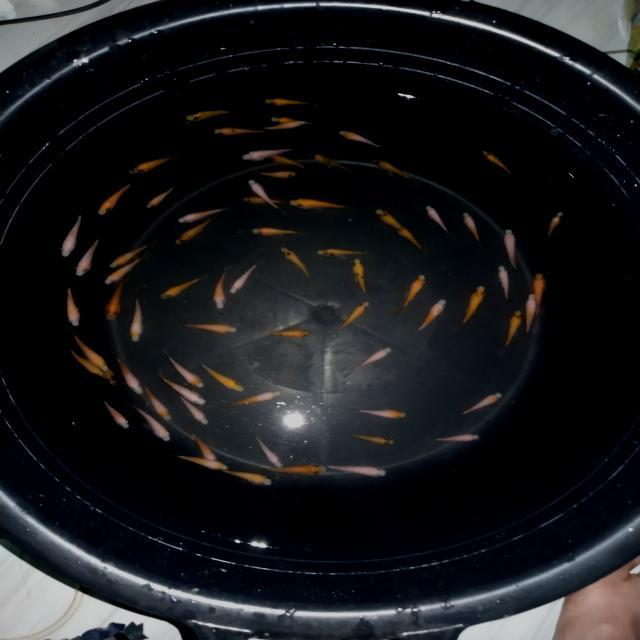nila: (66, 325, 110, 372), (298, 144, 359, 176), (162, 346, 207, 389), (128, 402, 172, 444), (156, 373, 208, 406), (126, 150, 189, 177), (101, 250, 148, 286), (326, 300, 372, 336), (95, 179, 138, 217), (368, 155, 420, 186), (200, 362, 250, 394), (454, 282, 487, 330), (344, 344, 394, 374), (162, 451, 230, 472), (318, 460, 389, 480), (478, 146, 519, 180), (183, 427, 220, 464), (226, 258, 262, 296), (65, 343, 104, 378), (140, 382, 174, 422), (116, 356, 148, 398), (106, 240, 154, 268), (157, 272, 205, 300), (248, 178, 284, 215), (250, 431, 285, 469), (413, 296, 448, 334), (59, 208, 85, 259), (456, 391, 504, 418), (240, 144, 298, 166), (175, 394, 212, 428), (276, 243, 310, 280), (338, 128, 390, 152), (497, 308, 523, 356), (288, 195, 353, 214), (74, 235, 102, 279), (173, 216, 213, 246), (396, 273, 426, 313), (102, 276, 127, 323), (218, 468, 276, 488), (173, 204, 230, 224), (172, 320, 238, 337), (222, 389, 284, 407), (182, 104, 237, 124), (100, 395, 131, 430), (141, 181, 178, 210), (520, 292, 540, 344), (500, 227, 522, 273), (62, 278, 82, 328), (538, 210, 565, 247), (392, 223, 424, 254), (420, 431, 482, 447), (461, 210, 486, 248), (372, 205, 406, 232), (208, 126, 272, 140), (424, 204, 452, 236), (269, 114, 328, 129), (266, 463, 329, 477), (532, 272, 548, 327), (255, 119, 308, 135), (127, 297, 145, 344), (344, 406, 409, 419), (266, 150, 306, 171), (314, 246, 372, 260), (260, 95, 316, 109), (348, 432, 397, 448), (493, 264, 512, 304), (212, 267, 228, 312), (351, 256, 368, 297), (249, 226, 302, 238), (256, 328, 316, 338), (238, 195, 286, 206), (253, 169, 299, 180), (99, 366, 120, 388)
